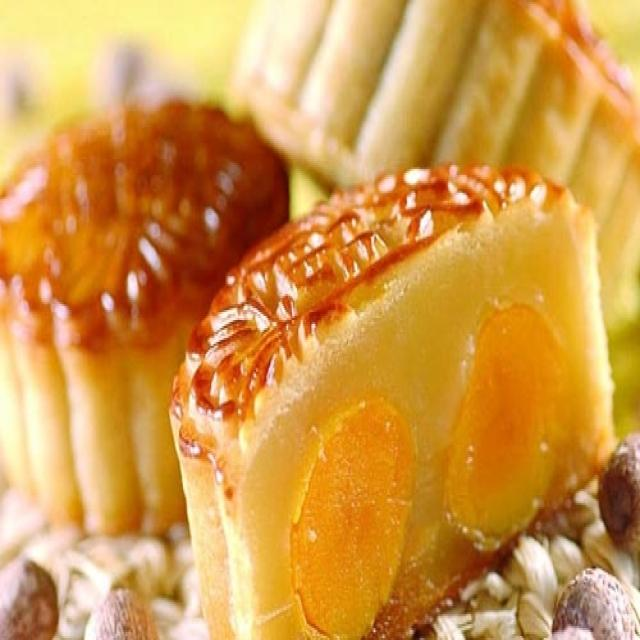蛋糕甜品: (18, 44, 612, 620)
